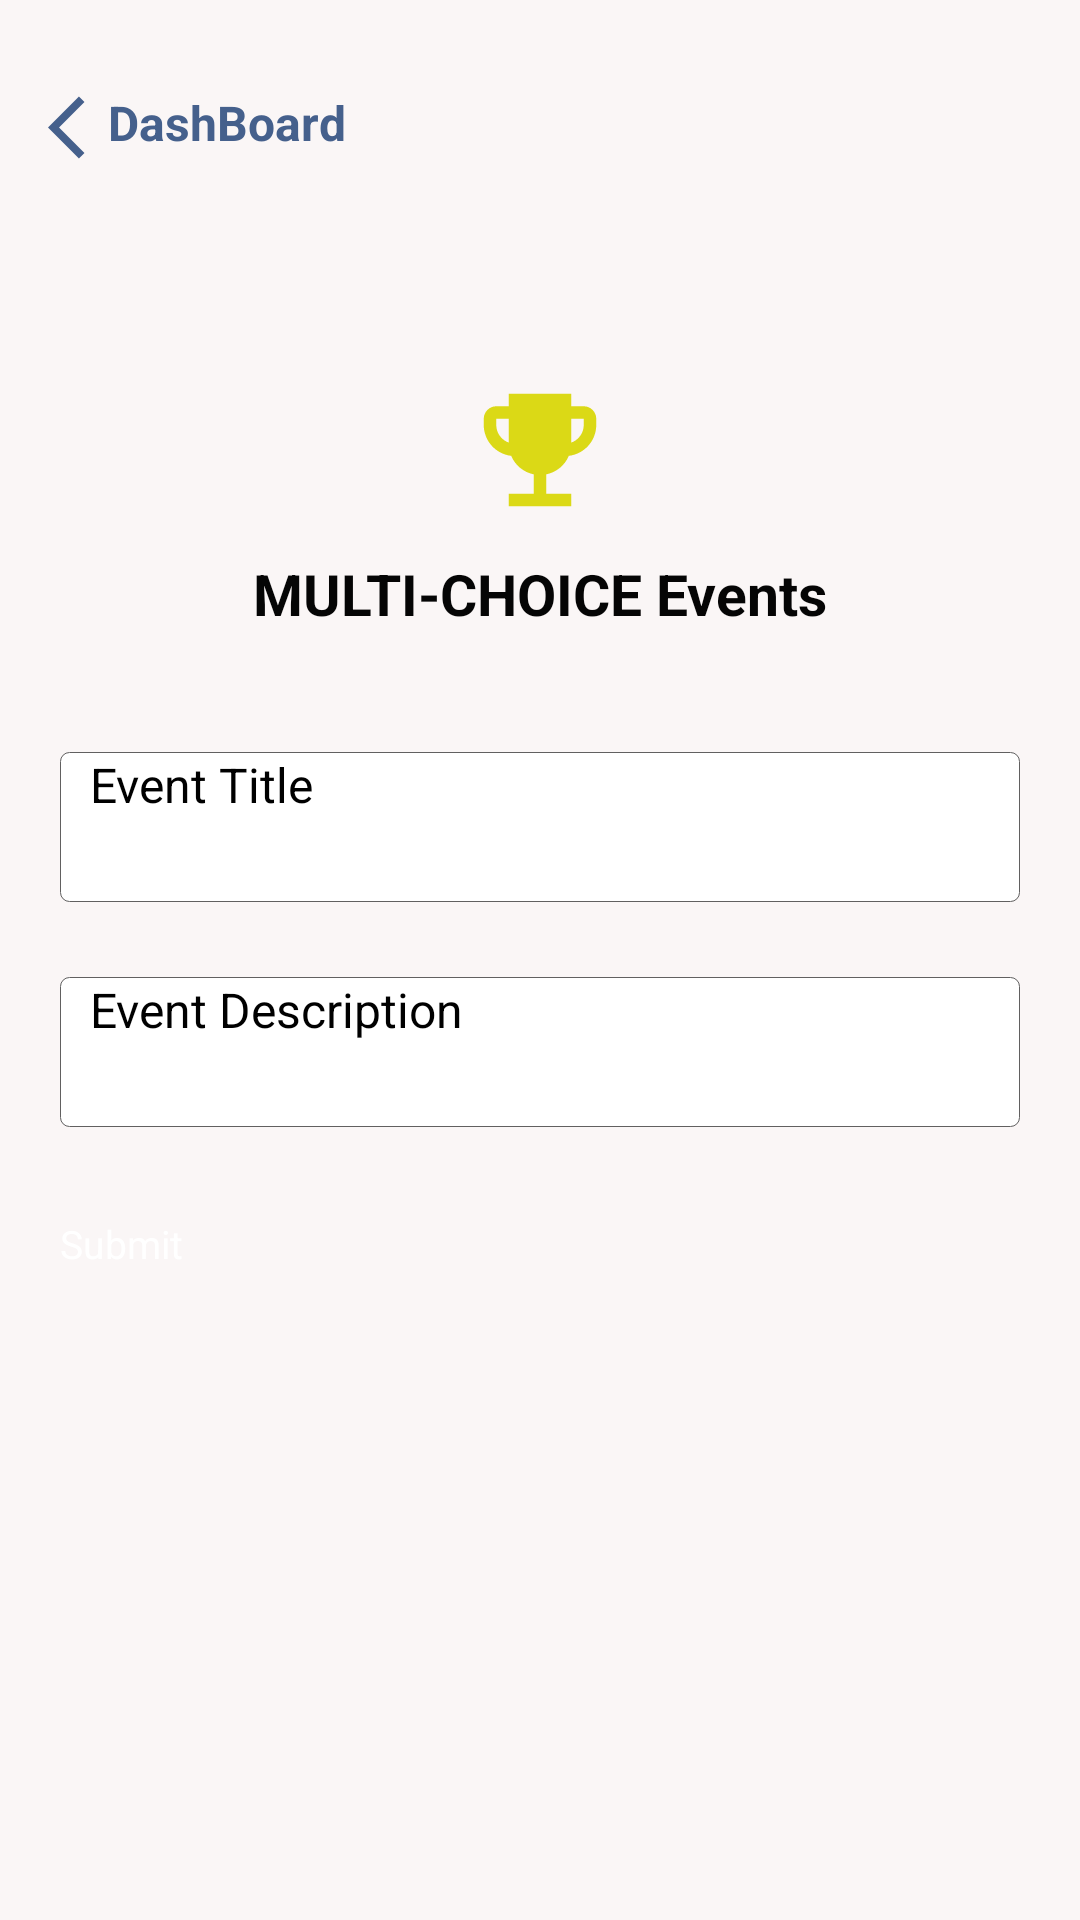

Icon bounding boxes for this 1080 × 1920 phone screenshot, format [x1,y1,x2,y2]:
arrow back: [48,96,84,159]
emoji events: [483,393,597,507]
